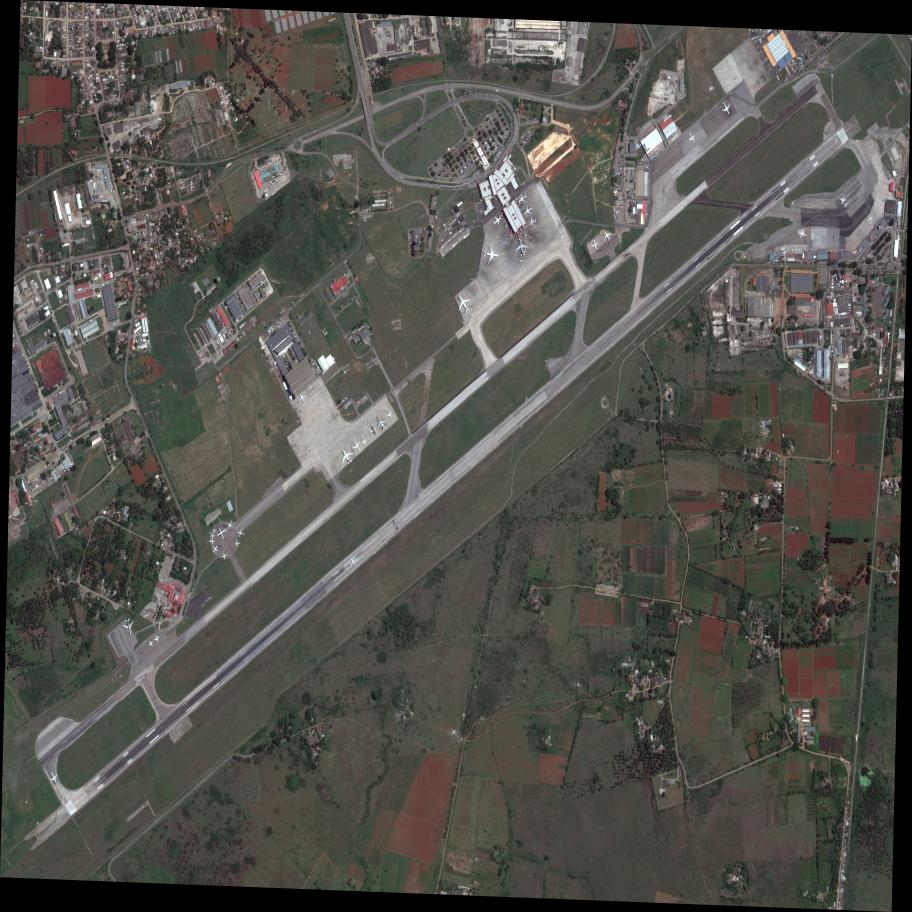plane: (451, 289, 475, 316), (334, 445, 358, 468), (482, 244, 500, 265), (372, 413, 390, 433), (718, 98, 735, 118), (348, 436, 365, 455), (514, 238, 530, 257), (121, 617, 136, 637), (521, 203, 536, 218), (515, 191, 529, 207), (47, 770, 61, 785), (600, 229, 614, 243), (295, 391, 308, 406), (215, 526, 228, 541), (491, 213, 504, 228), (346, 556, 359, 570), (367, 422, 379, 437), (686, 131, 698, 145), (358, 435, 370, 448), (384, 408, 395, 420), (864, 214, 875, 225), (210, 544, 221, 555), (225, 519, 235, 531), (590, 239, 600, 251), (527, 216, 537, 228), (153, 634, 162, 644), (839, 194, 847, 205), (237, 528, 245, 538), (797, 228, 805, 238), (147, 640, 155, 648), (234, 539, 241, 548), (221, 551, 228, 560), (209, 537, 215, 545), (212, 527, 217, 534), (223, 527, 228, 533), (211, 533, 215, 538)
